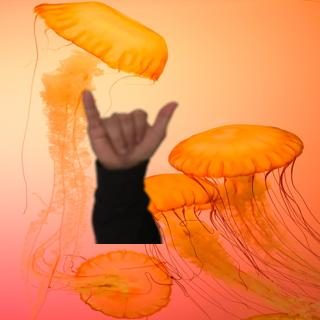HAVE: (71, 81, 185, 172)
